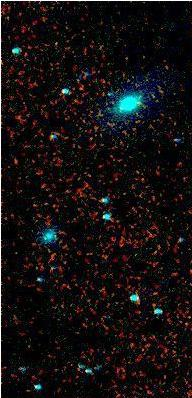star: (115, 247, 145, 277)
